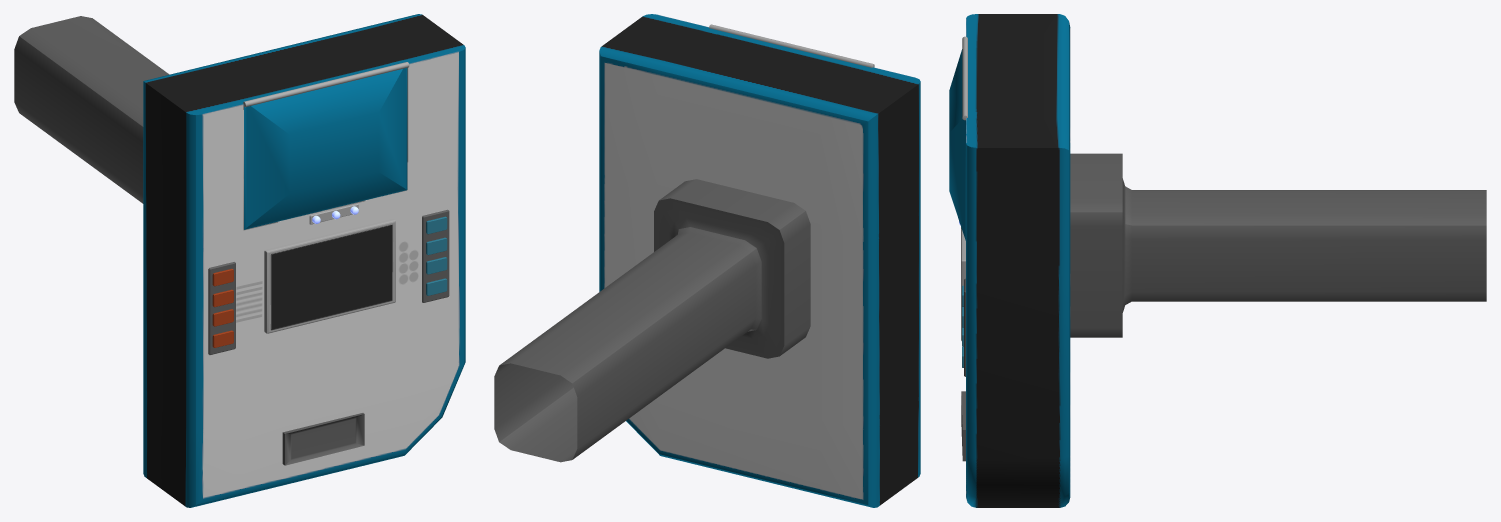
Rendered from PortaTarjetasV3 1.fbx.
3 renders of one model, left to right at view 1: azimuth 30°, elevation 25°; view 2: azimuth 150°, elevation 25°; view 3: azimuth 270°, elevation 25°, orthographic.
Parts seen in each view (by area): view 1: Porta_tarjeta, Tapa; view 2: Porta_tarjeta, Tapa; view 3: Porta_tarjeta, Tapa.
Boxes of the visible parts, x1,y1,x2,y2 form: Porta_tarjeta: (14,14,465,507); Tapa: (243,62,409,229); Porta_tarjeta: (494,14,920,507); Tapa: (709,24,874,67); Porta_tarjeta: (959,14,1486,507); Tapa: (949,36,967,240).
Size of the model in its own units: 31.82 by 43.53 by 53.96.
4 materials, 4 textured.
